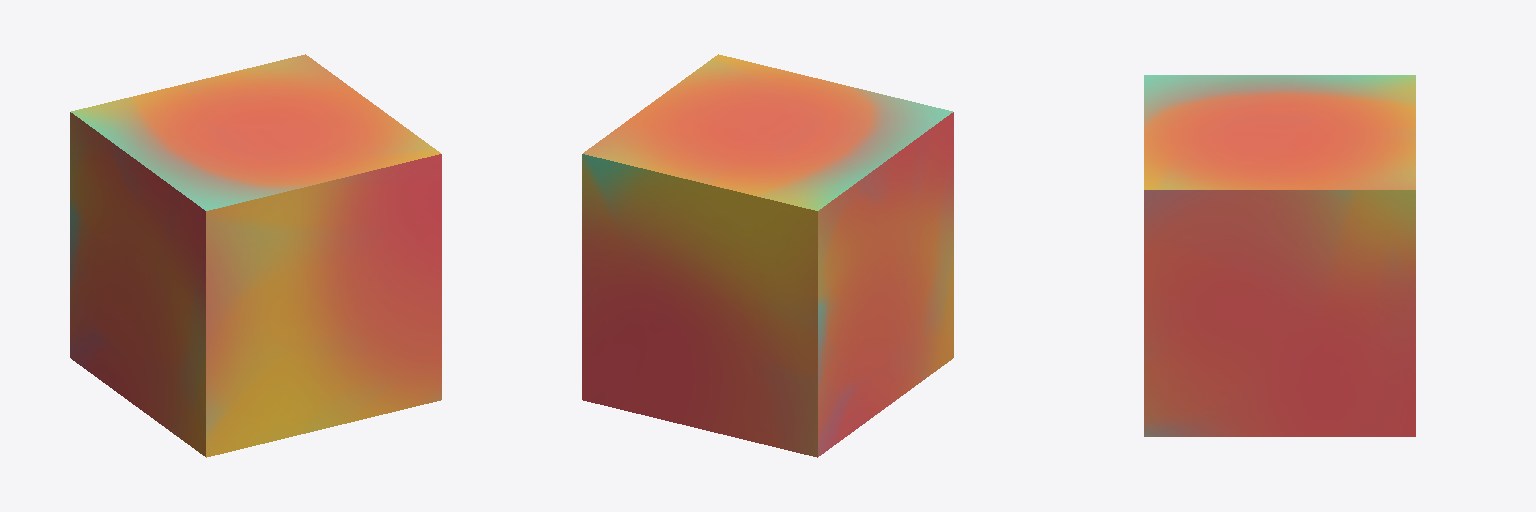
The picture shows the model from 3 angles: view 1: azimuth 30°, elevation 25°; view 2: azimuth 150°, elevation 25°; view 3: azimuth 270°, elevation 25°; orthographic projection.
Visible parts, largest first — view 1: Cube; view 2: Cube; view 3: Cube.
Boxes of the visible parts, <box> form: Cube: <box>70,54,441,457</box>; Cube: <box>582,54,953,457</box>; Cube: <box>1144,75,1415,436</box>.
Size of the model in its own units: 2 by 2 by 2.
Materials: 1 (1 with a texture image).